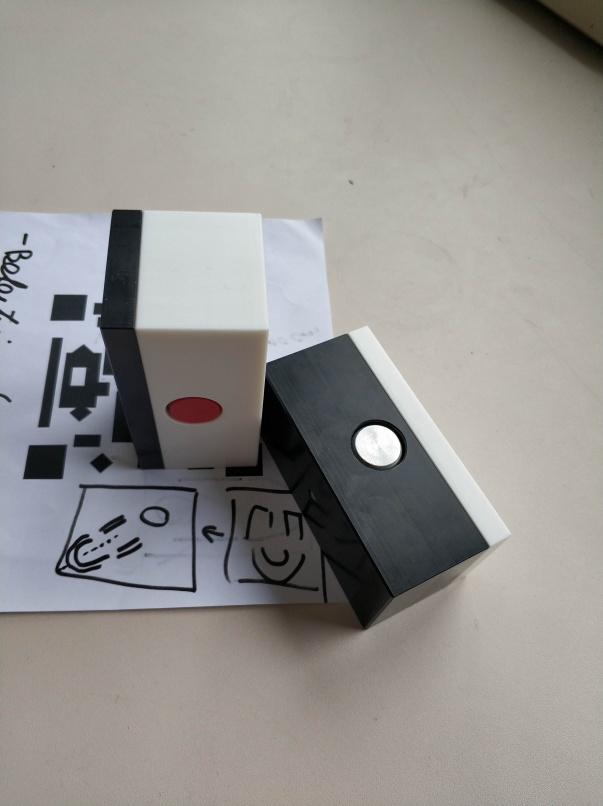black+white+red: (100, 208, 266, 469)
white+black+silver: (263, 326, 513, 633)
